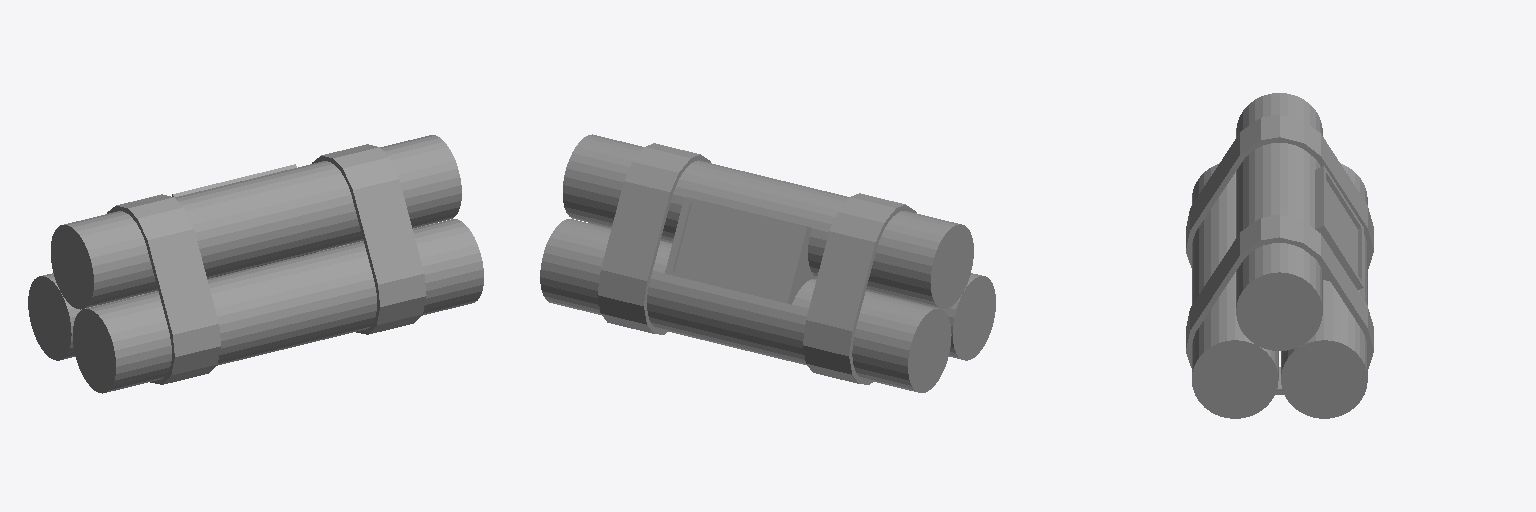
File: Dynamite.obj
3 renders of one model, left to right at view 1: azimuth 30°, elevation 25°; view 2: azimuth 150°, elevation 25°; view 3: azimuth 270°, elevation 25°, orthographic.
Parts seen in each view (by area): view 1: Cube_Cube.006; view 2: Cube_Cube.006; view 3: Cube_Cube.006.
Boxes of the visible parts, box(x1,y1,x2,y2) form: Cube_Cube.006: box(28, 135, 483, 393); Cube_Cube.006: box(540, 134, 995, 392); Cube_Cube.006: box(1186, 93, 1373, 418).
Size of the model in its own units: 0.5626 by 0.2304 by 0.2495.